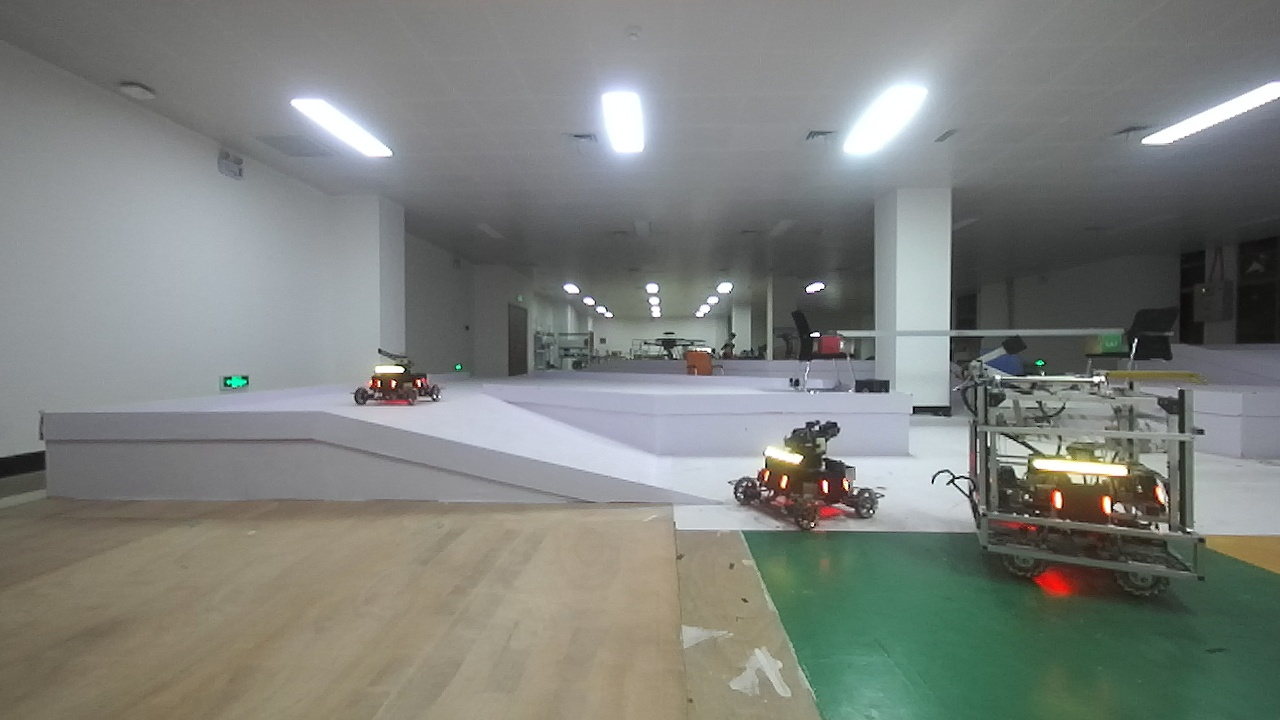car: (927, 351, 1235, 613), (720, 410, 883, 540), (346, 349, 464, 422)
